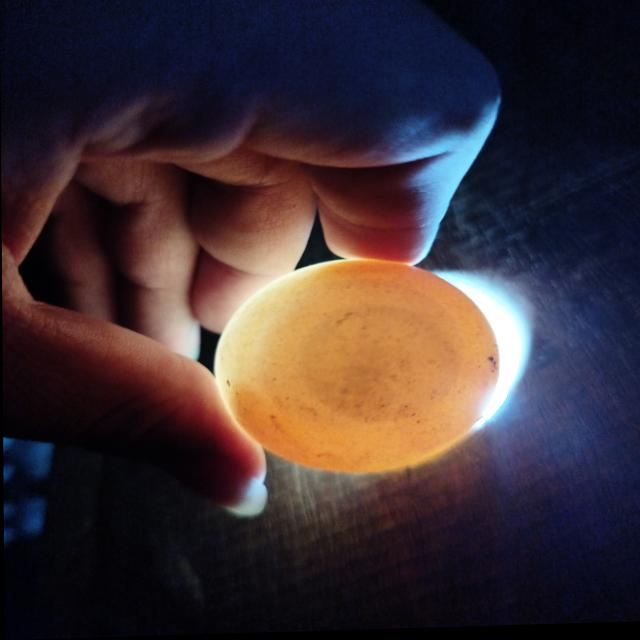Camara de Ar: (302, 313, 453, 420)
